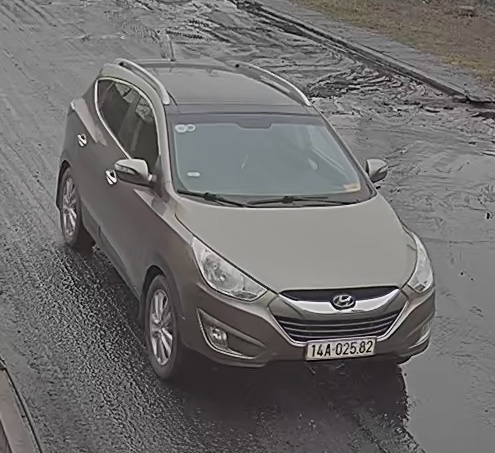vehicle plate: (303, 333, 383, 360)
